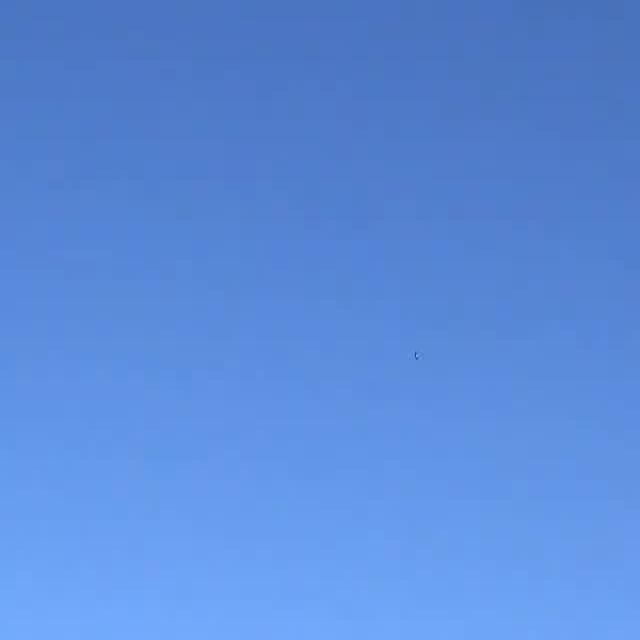bird: (412, 347, 428, 371)
